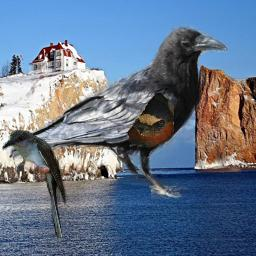Crow: (6, 24, 228, 199)
Cuckoo: (2, 130, 68, 238)
Swallow: (127, 93, 174, 147)
